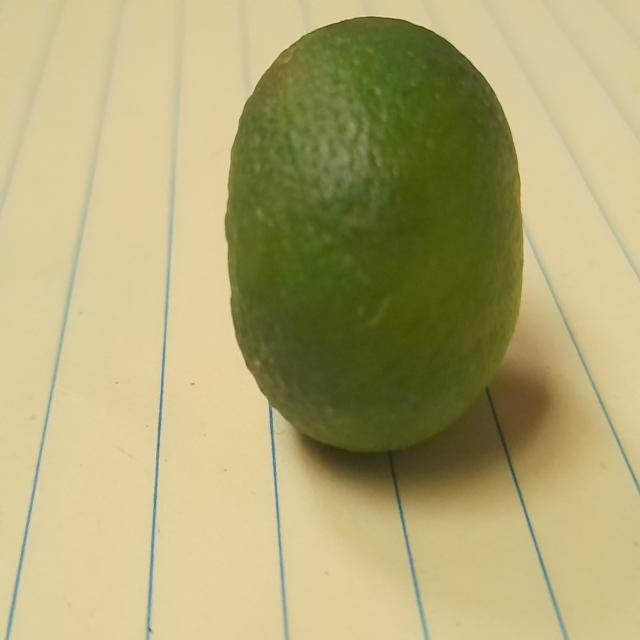heathy: (227, 3, 530, 473)
